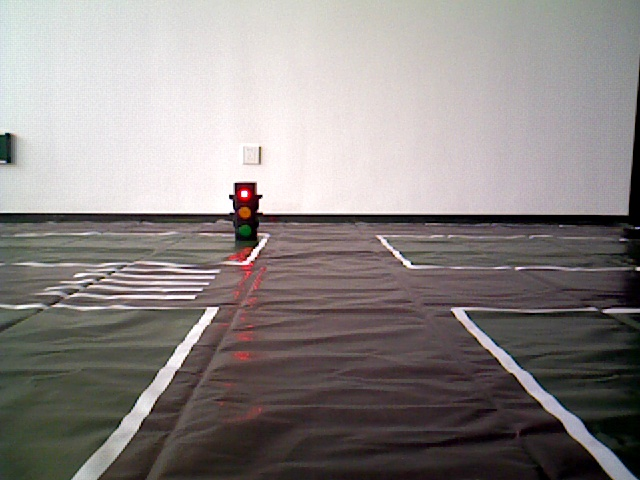red: (233, 182, 257, 240)
